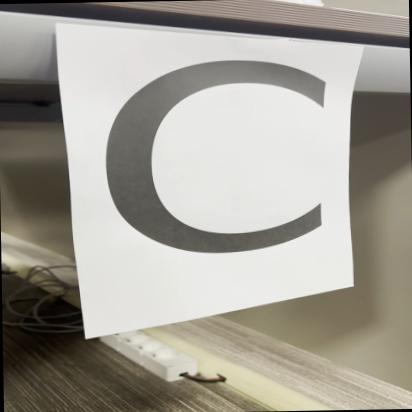seat: (73, 39, 368, 286)
